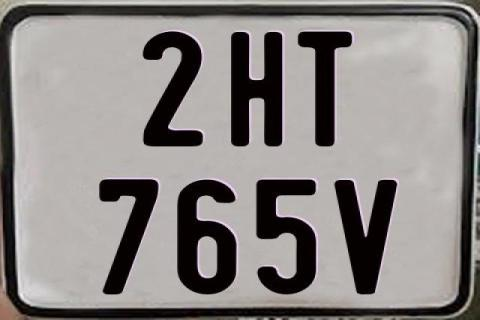0: (255, 177, 321, 297), (96, 178, 160, 294), (177, 177, 238, 293), (143, 31, 203, 147)
H: (230, 30, 282, 148)
T: (295, 32, 350, 150)
V: (334, 178, 400, 296)
